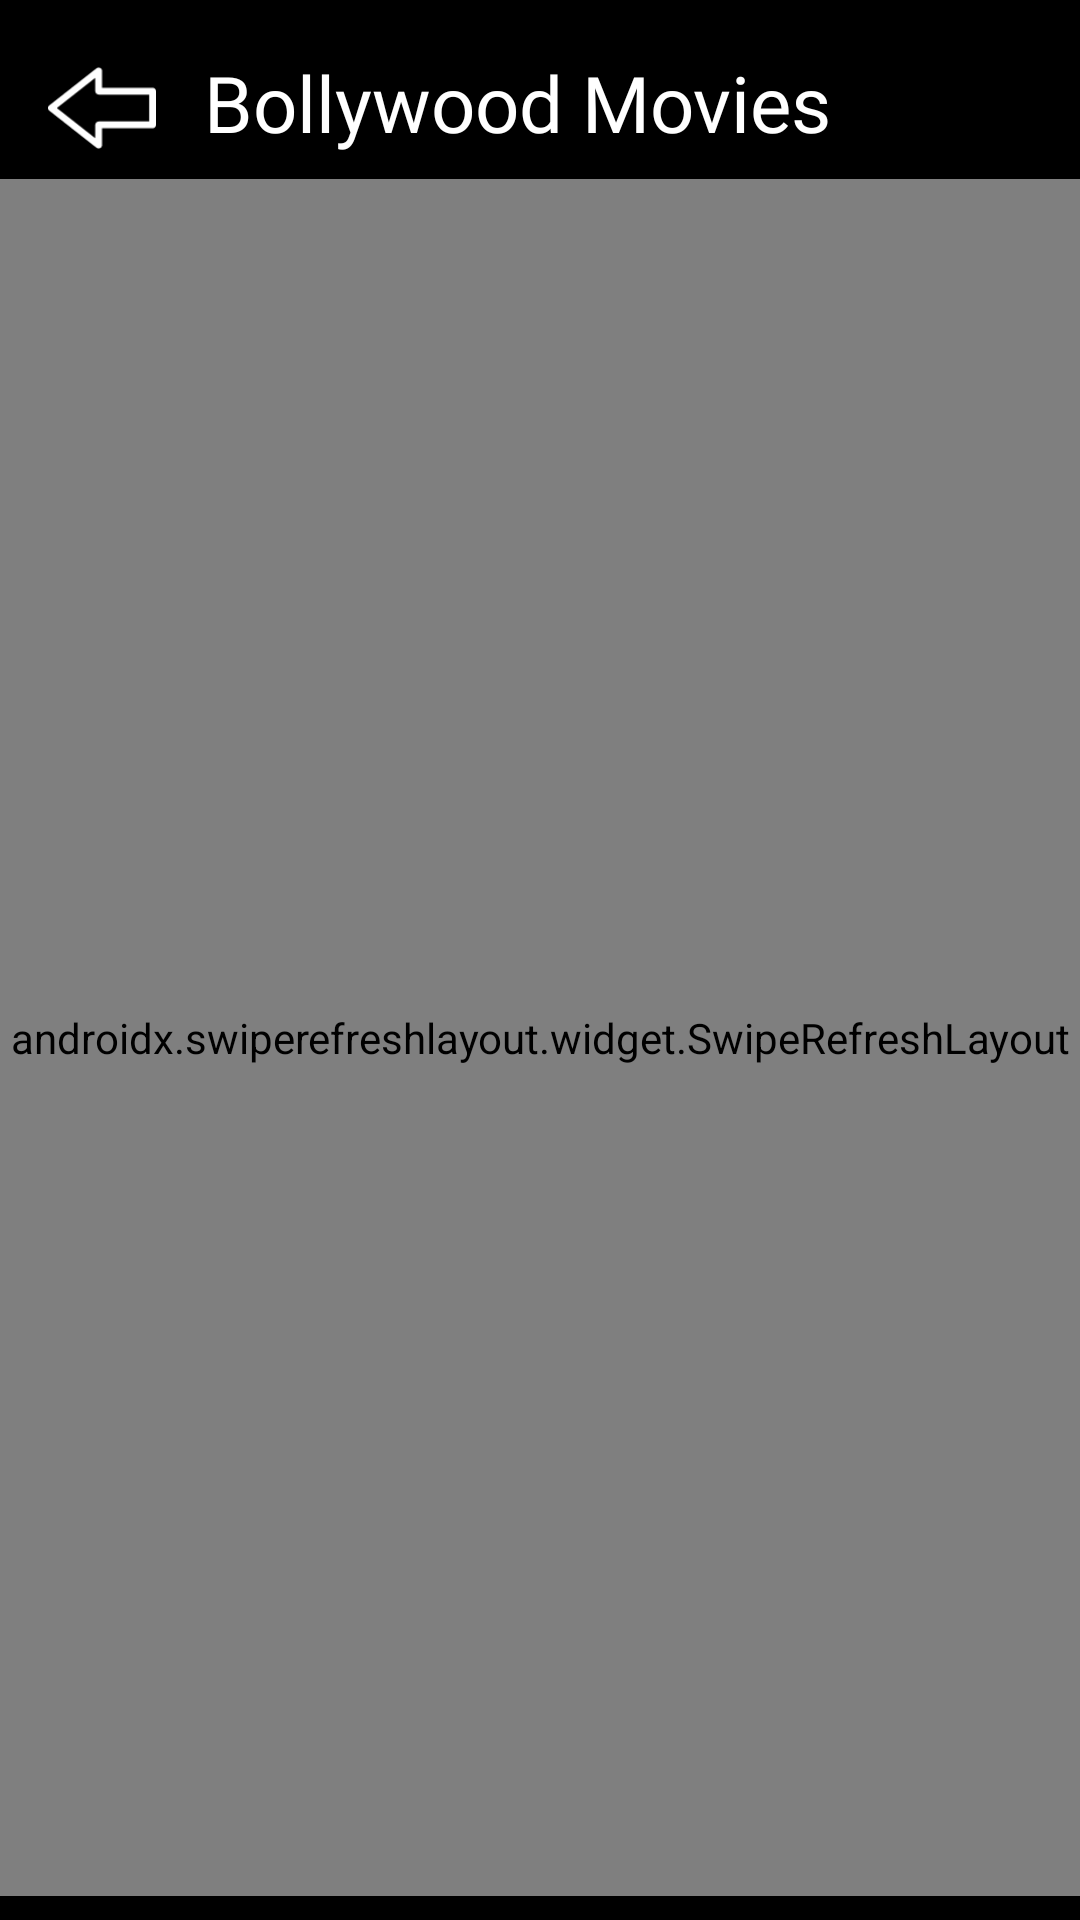

Screen size 1080px x 1920px. Icon name, then its box in pixels as bbox(x1, y1, x2, y2):
left arrow: bbox(48, 67, 156, 149)
